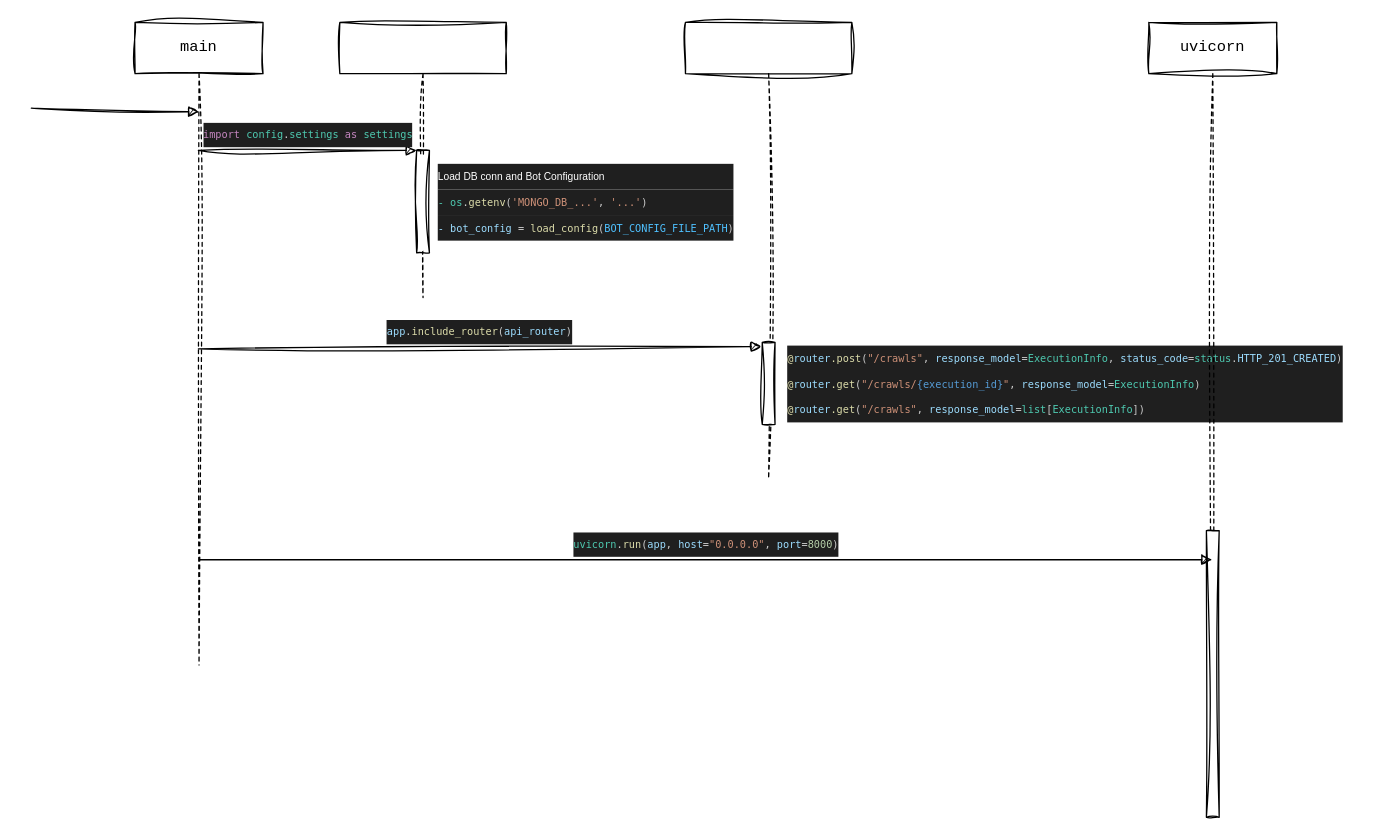
This 1393x840 diagram has some shape labels left out. The shapes that lost their labels are listed below. From the top down, each one's box as (x1, y1, x2, y2) in pixels, then its label:
(339, 21, 506, 298): config.settings
(684, 21, 852, 477): api.routes
